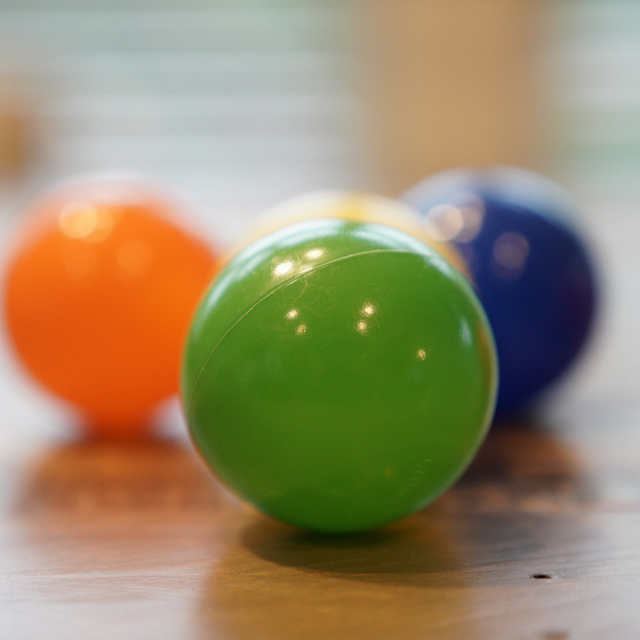Ball: (181, 222, 495, 533)
